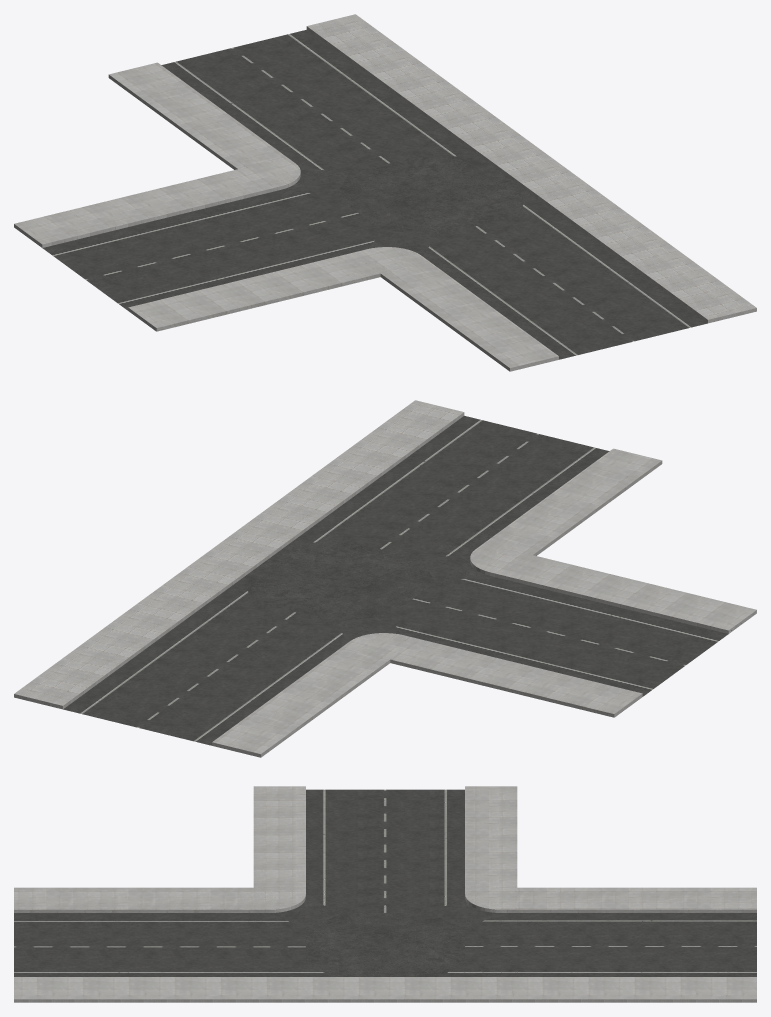
File: TJunction.fbx
The picture shows the model from 3 angles, top to bottom: view 1: azimuth 30°, elevation 25°; view 2: azimuth 150°, elevation 25°; view 3: azimuth 270°, elevation 25°; orthographic projection. The views are drawn at different scales.
Visible parts, largest first — view 1: Plane; view 2: Plane; view 3: Plane.
Boxes of the visible parts, x1,y1,x2,y2 form: Plane: (14,14,756,371); Plane: (14,400,756,757); Plane: (14,786,756,1002).
Size of the model in its own units: 14770 by 108 by 21797.
